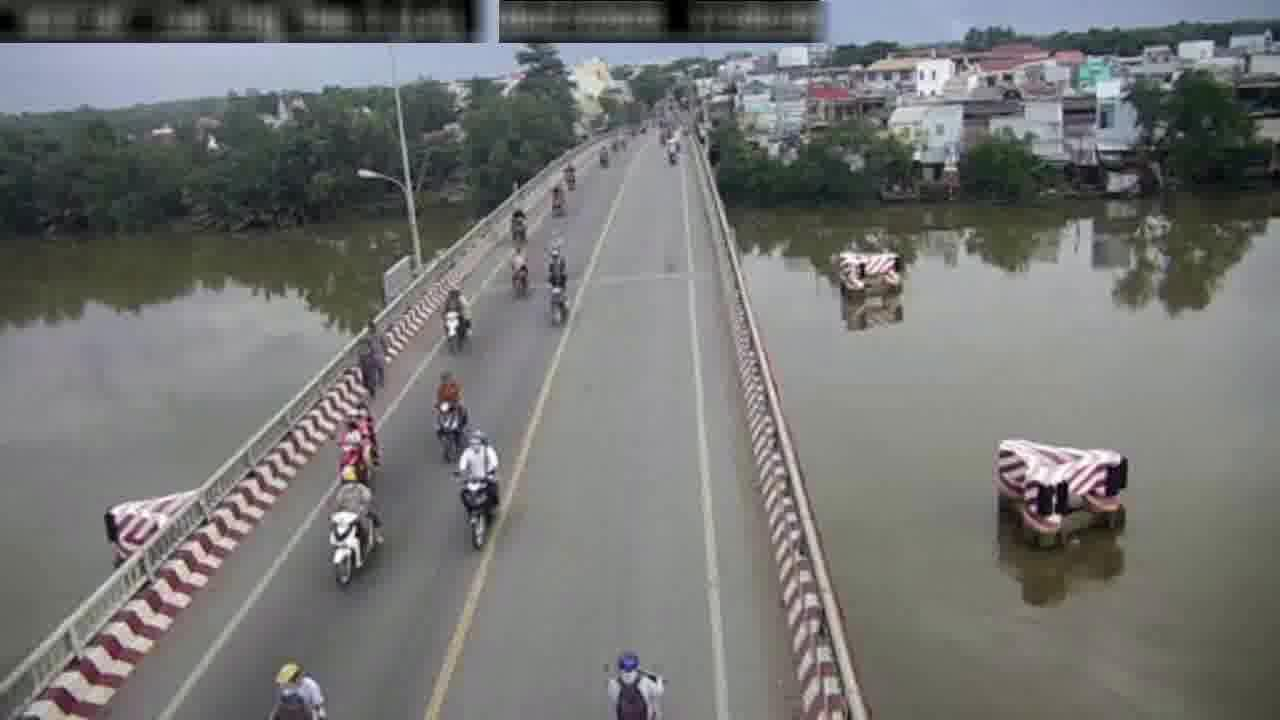motorbike: (461, 422, 506, 552), (331, 470, 378, 593), (335, 394, 381, 475), (434, 363, 466, 459), (441, 280, 467, 349), (547, 247, 570, 325), (506, 241, 531, 299)
